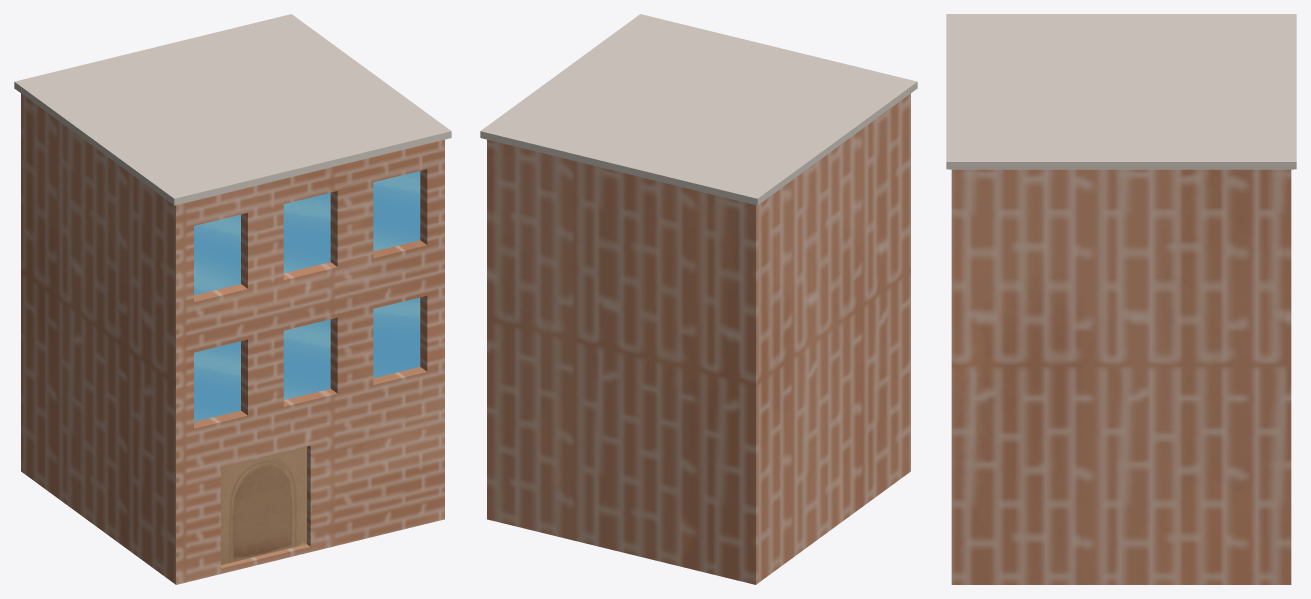
The model's file is SM_cassa_2.fbx.
3 renders of one model, left to right at view 1: azimuth 30°, elevation 25°; view 2: azimuth 150°, elevation 25°; view 3: azimuth 270°, elevation 25°, orthographic. The views are drawn at different scales.
Parts seen in each view (by area): view 1: Casa_0.004; view 2: Casa_0.004; view 3: Casa_0.004.
Part boxes in pixels (x1,y1,x2,y2): Casa_0.004: (14, 14, 451, 584); Casa_0.004: (480, 14, 917, 584); Casa_0.004: (946, 14, 1296, 584).
Bounding box in the file's own units: 692 × 927 × 692.
